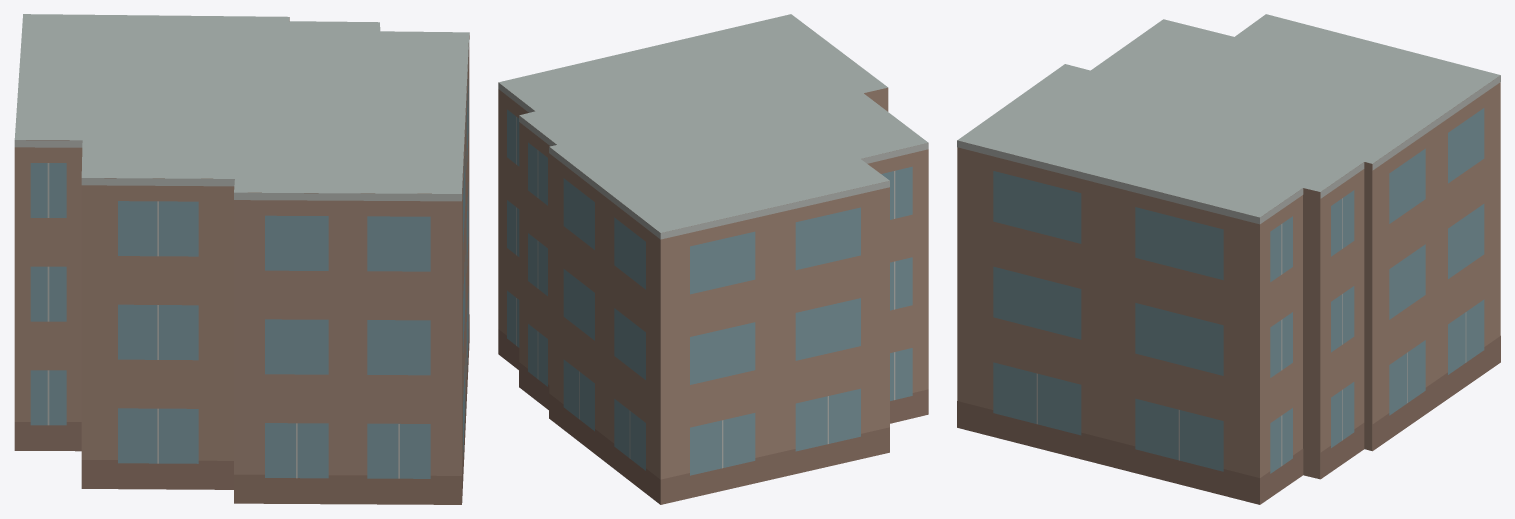
The model's file is survey-upis-32836649.glb.
The picture shows the model from 3 angles, left to right: view 1: azimuth 30°, elevation 25°; view 2: azimuth 150°, elevation 25°; view 3: azimuth 270°, elevation 25°; orthographic projection. The views are drawn at different scales.
Parts seen in each view (by area): view 1: survey-upis-32836649.tmp; view 2: survey-upis-32836649.tmp; view 3: survey-upis-32836649.tmp.
Part boxes in pixels (<box>): survey-upis-32836649.tmp: <box>14,14,469,504</box>; survey-upis-32836649.tmp: <box>498,14,928,504</box>; survey-upis-32836649.tmp: <box>957,14,1500,504</box>.
Size of the model in its own units: 15.5 by 10.2 by 17.5.
